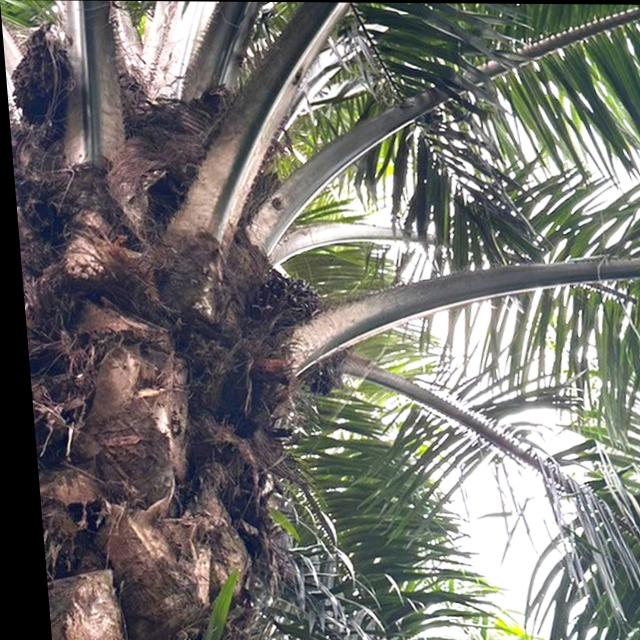almost: (240, 265, 350, 403)
